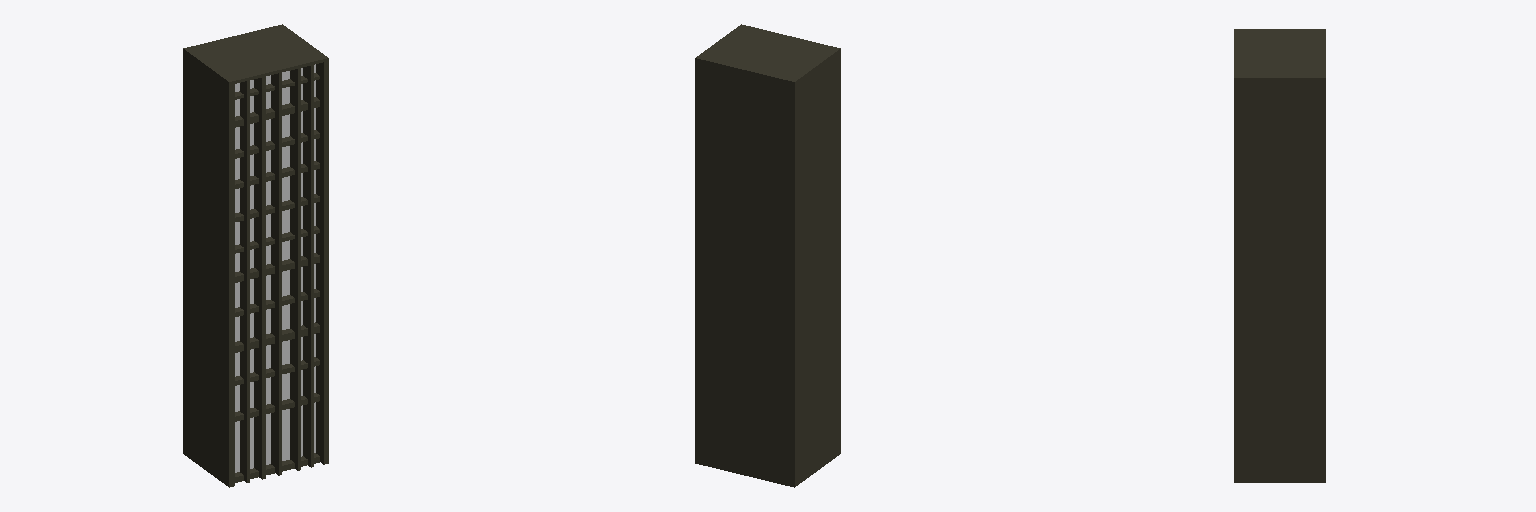
Rendered from Edificio_02.obj.
3 renders of one model, left to right at view 1: azimuth 30°, elevation 25°; view 2: azimuth 150°, elevation 25°; view 3: azimuth 270°, elevation 25°, orthographic.
Visible parts, largest first — view 1: Edificio_02.003_Cube.022; view 2: Edificio_02.003_Cube.022; view 3: Edificio_02.003_Cube.022.
Part boxes in pixels (left/top/right/bottom): Edificio_02.003_Cube.022: left=183, top=24, right=328, bottom=487; Edificio_02.003_Cube.022: left=695, top=24, right=840, bottom=487; Edificio_02.003_Cube.022: left=1234, top=29, right=1325, bottom=482.
Bounding box in the file's own units: 10.19 × 39.72 × 8.18.